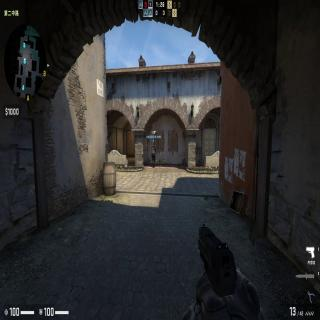CT-Body: (151, 143, 156, 168)
